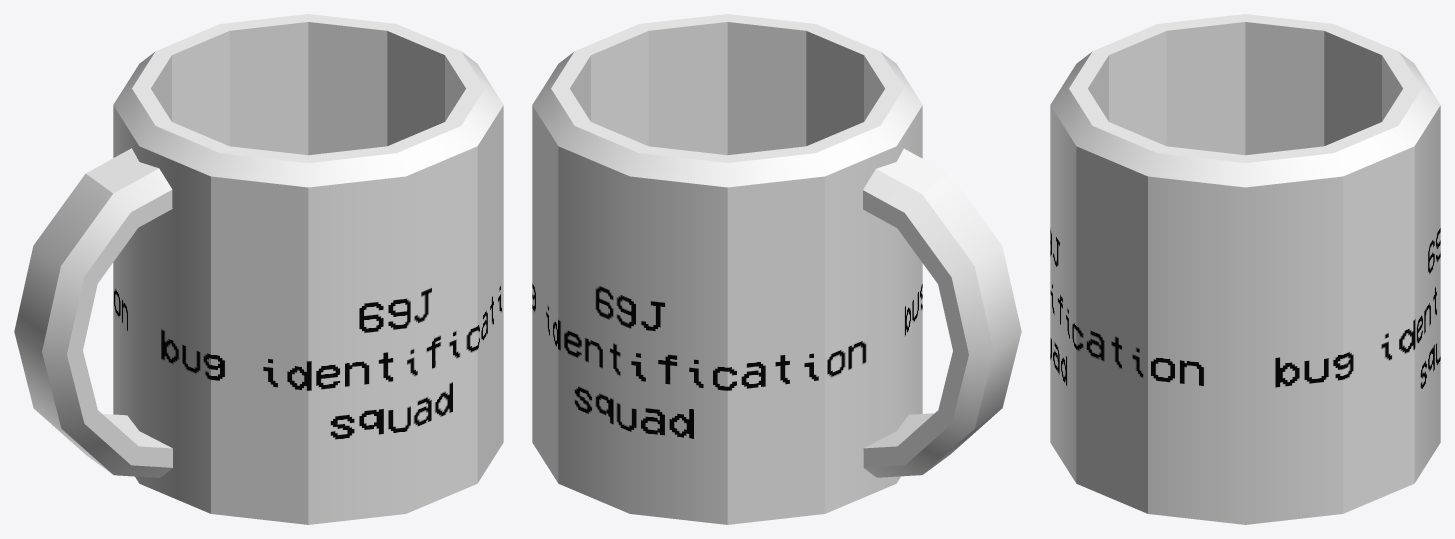
The model's file is new mug.fbx.
3 views of the same model, side by side, from view 1: azimuth 30°, elevation 25°; view 2: azimuth 150°, elevation 25°; view 3: azimuth 270°, elevation 25° (orthographic).
Visible parts, largest first — view 1: mug1; view 2: mug1; view 3: mug1.
Boxes of the visible parts, box(x1,y1,x2,y2) form: mug1: box(14, 14, 503, 524); mug1: box(532, 14, 1021, 524); mug1: box(1050, 14, 1440, 524).
Size of the model in its own units: 1.91 by 1.44 by 1.44.
